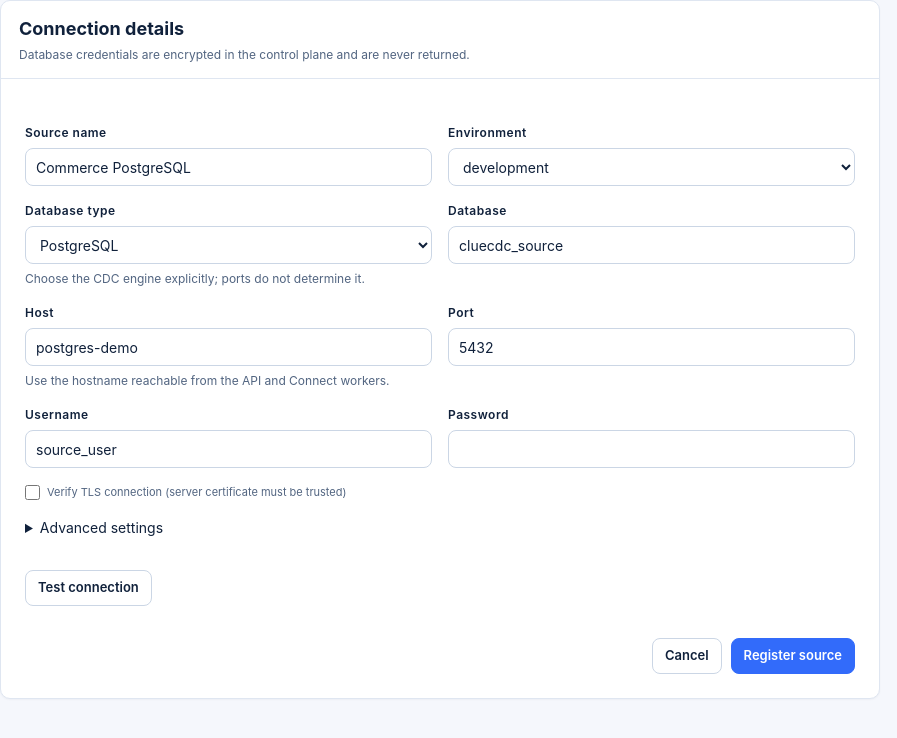
Scenario: source connection forms › tests postgresql before saving and clears stale success
The width and height of the screenshot is (897, 738).
Select "PostgreSQL" in the dropdown labelled "Database type": (228, 245) [25,226,432,264]
In the password field labelled "Password": (652, 449) [448,430,855,468], type "source123"
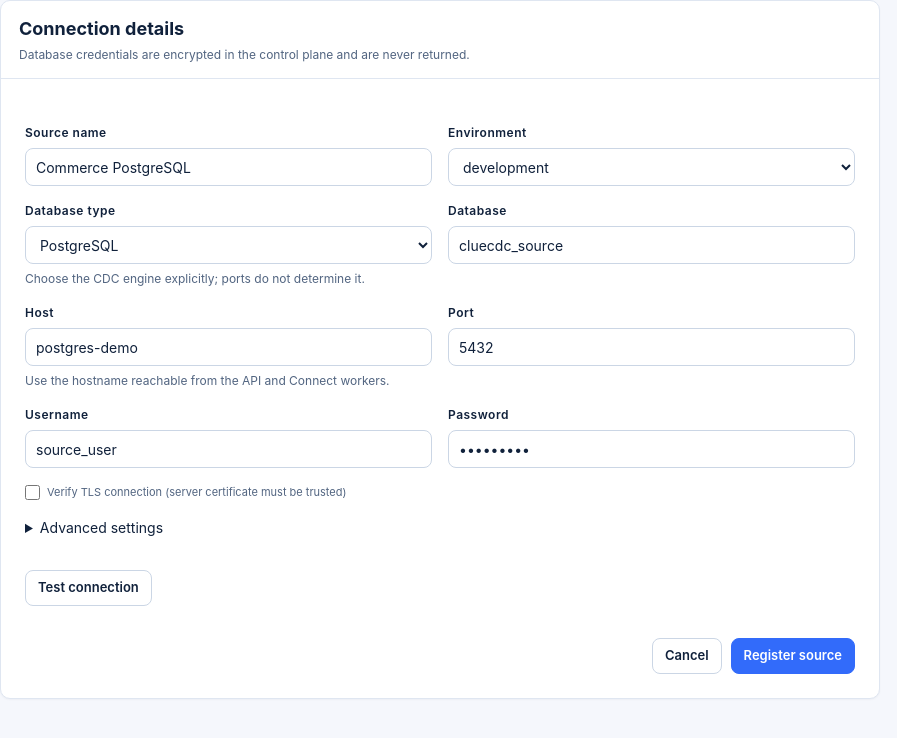
Click the button "Test connection": (88, 588) [25,570,152,606]
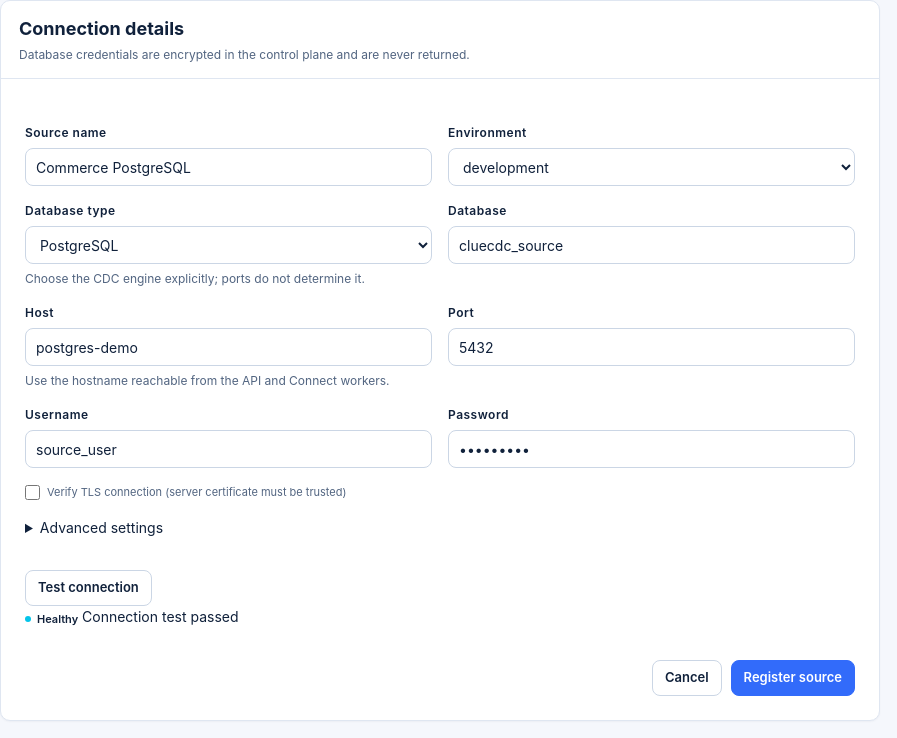
Result: the text "Connection test passed" is shown at [82,608,238,624]
Replace the text in the field labelled "Host" with "changed.internal": (228, 347) [25,328,432,366]
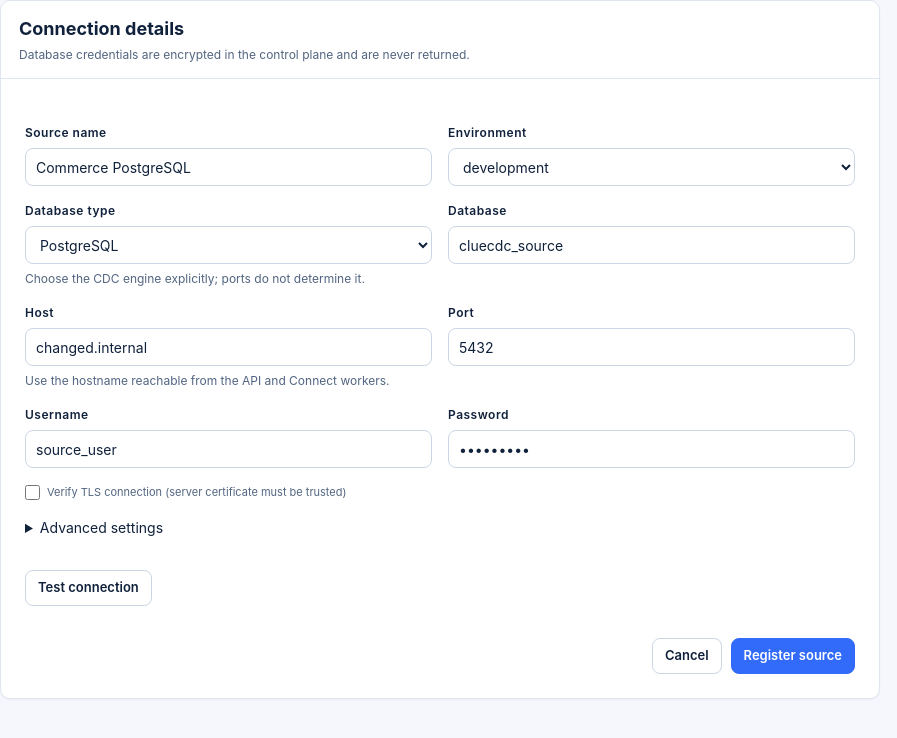
Result: the text "Connection test passed" is gone
